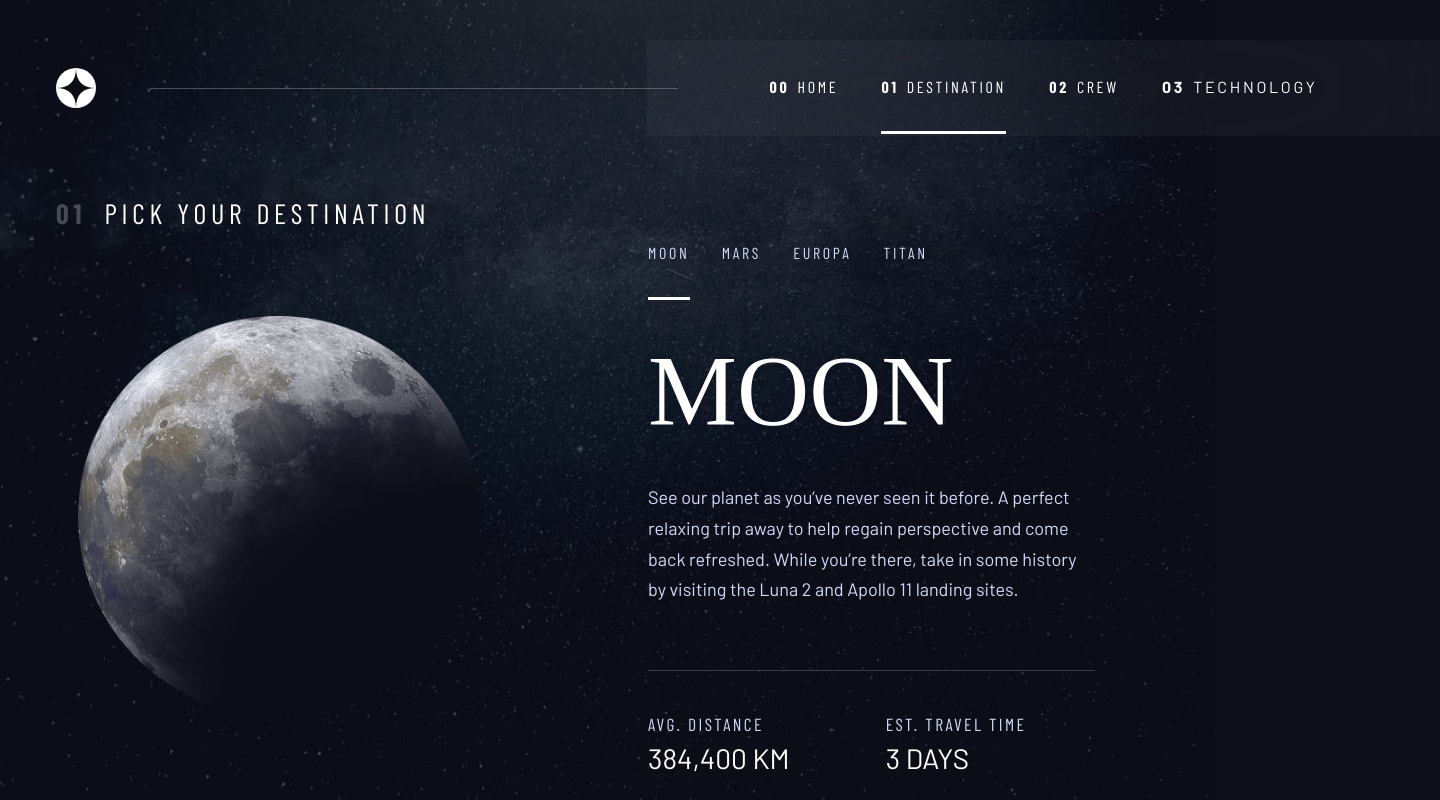
Destination Page › Mars button can be clicked
Click the button with class "dest-btn" showing "Mars": (742,254) [722,208,762,300]
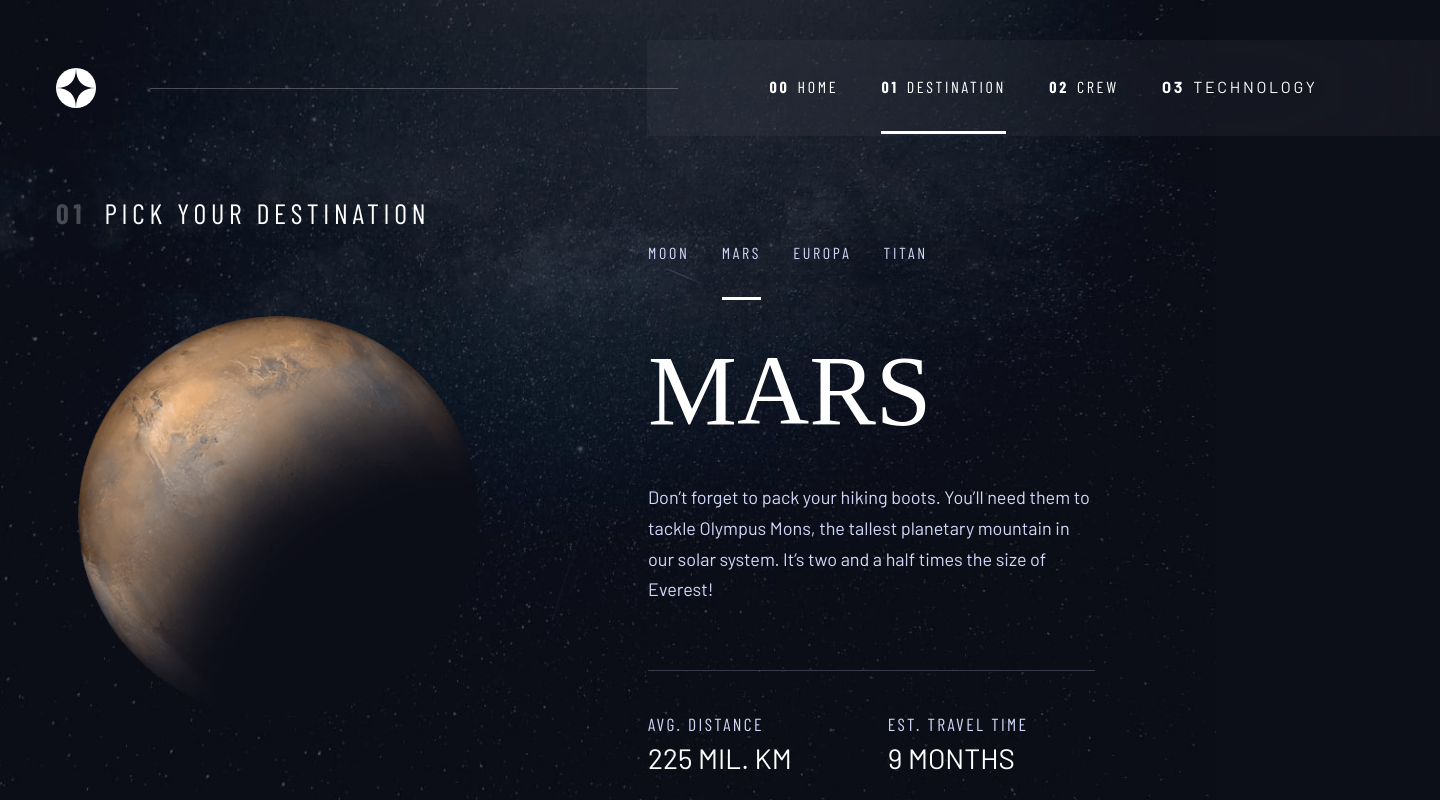
Expected: the text "Don’t forget to pack your hiking boots. You’ll need them to tackle Olympus Mons, the tallest planetary mountain in our s" is shown, [648,486,1090,600]
